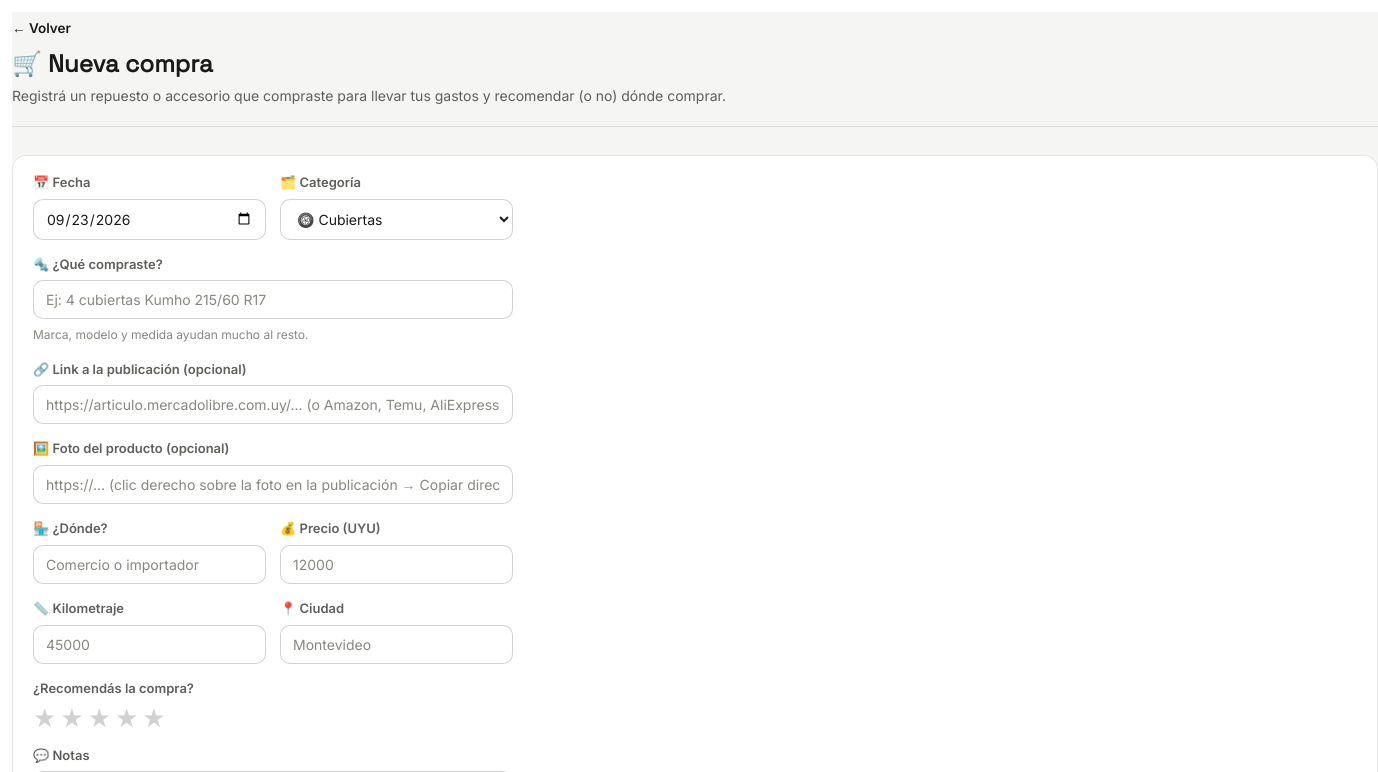
Scenario: NewPartPurchasePage › prefills the store field from a recognized link
The image size is (1378, 772).
Step 1. Replace the text in the field labelled "🔗 Link a la publicación (opcional)" with "https://www.amazon.com/dp/B08N5WRWNW" → (273, 405), box [33,385,513,424]
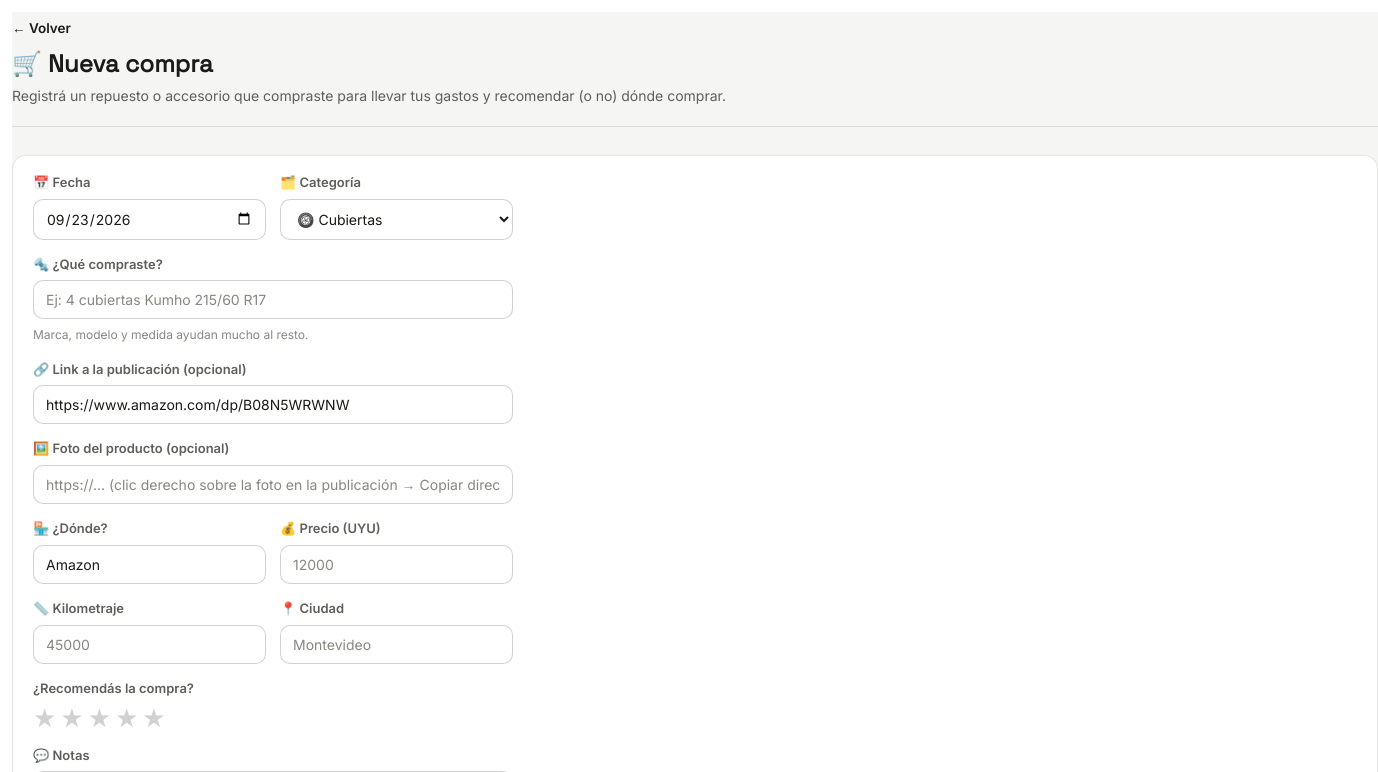
Now the field labelled "🏪 ¿Dónde?" holds "Amazon", box [33,545,266,584]
